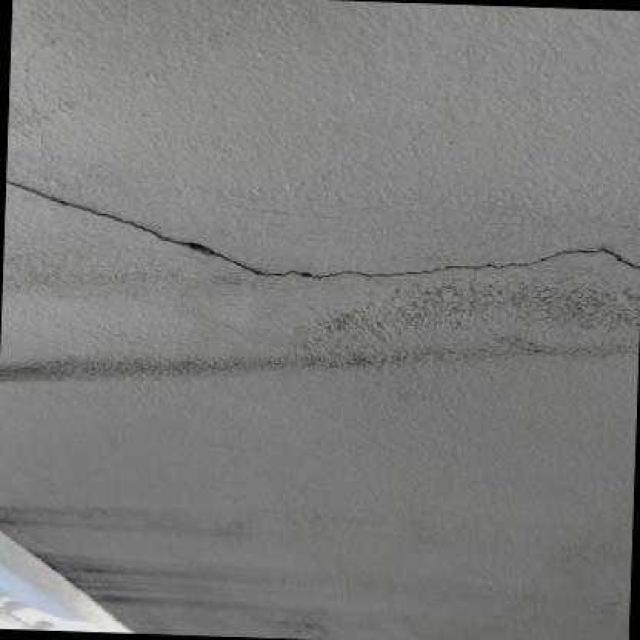D00: (5, 180, 640, 277)
